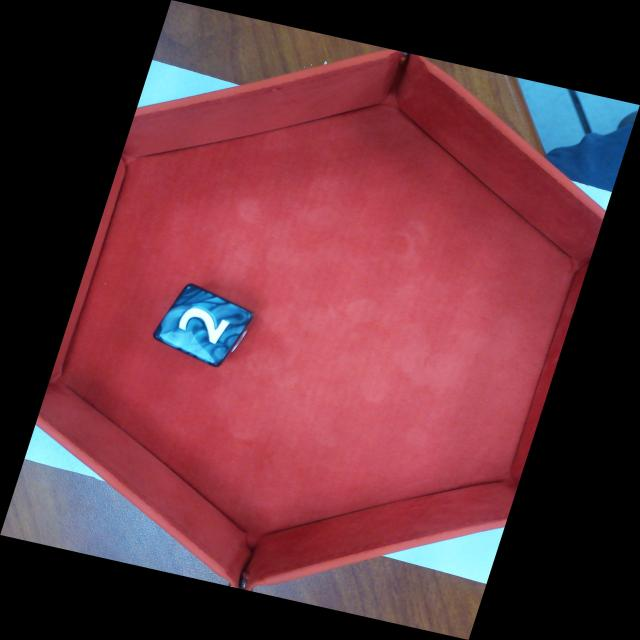dice: (159, 282, 252, 364)
